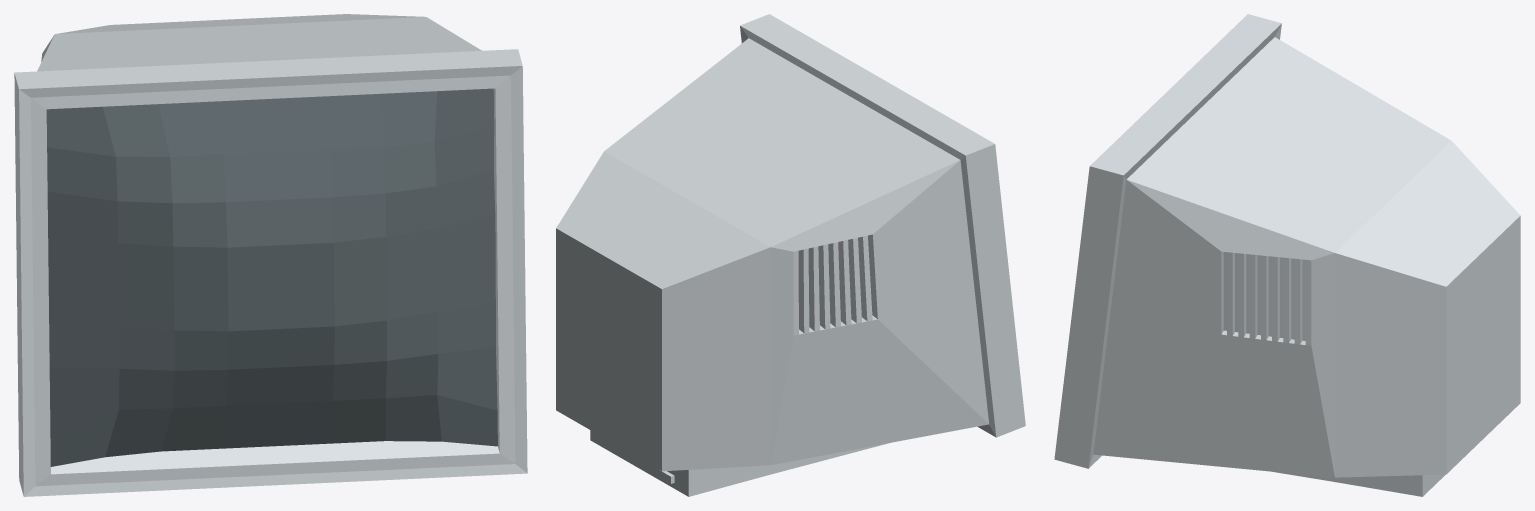
The model's file is pc.monitor.gltf.
3 views of the same model, side by side, from view 1: azimuth 30°, elevation 25°; view 2: azimuth 150°, elevation 25°; view 3: azimuth 270°, elevation 25° (orthographic). The views are drawn at different scales.
Parts seen in each view (by area): view 1: pc.monitor; view 2: pc.monitor; view 3: pc.monitor.
Boxes of the visible parts, <box> form: pc.monitor: <box>14,14,527,496</box>; pc.monitor: <box>556,14,1025,496</box>; pc.monitor: <box>1054,14,1520,496</box>.
Size of the model in its own units: 11.42 by 9.36 by 12.28.
1 material, 1 textured.
